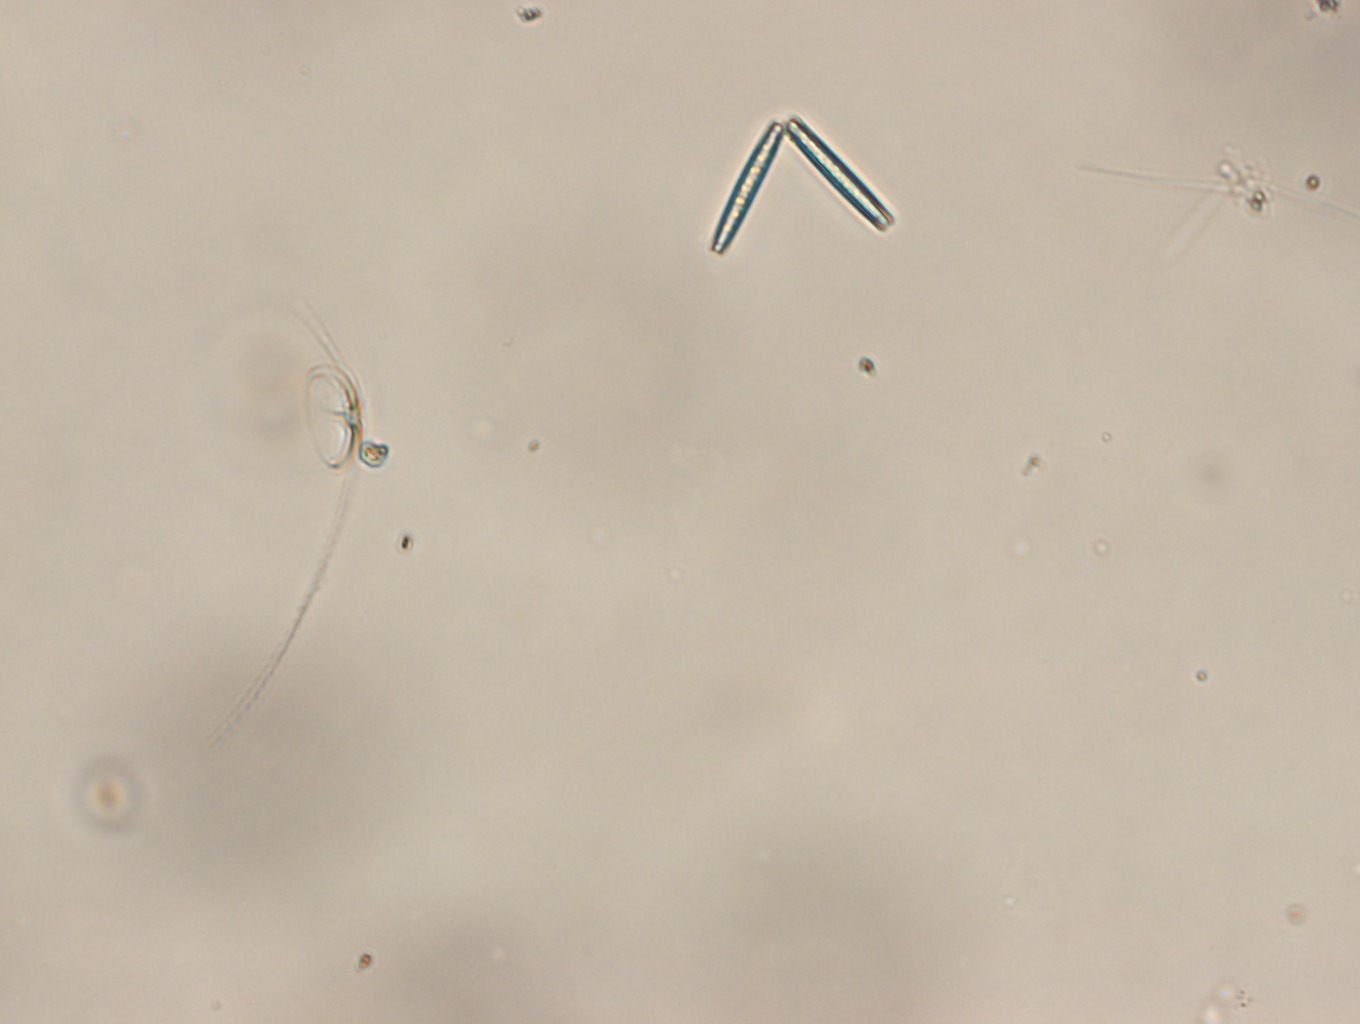thalassionema nitzschioides: (708, 113, 896, 257)
